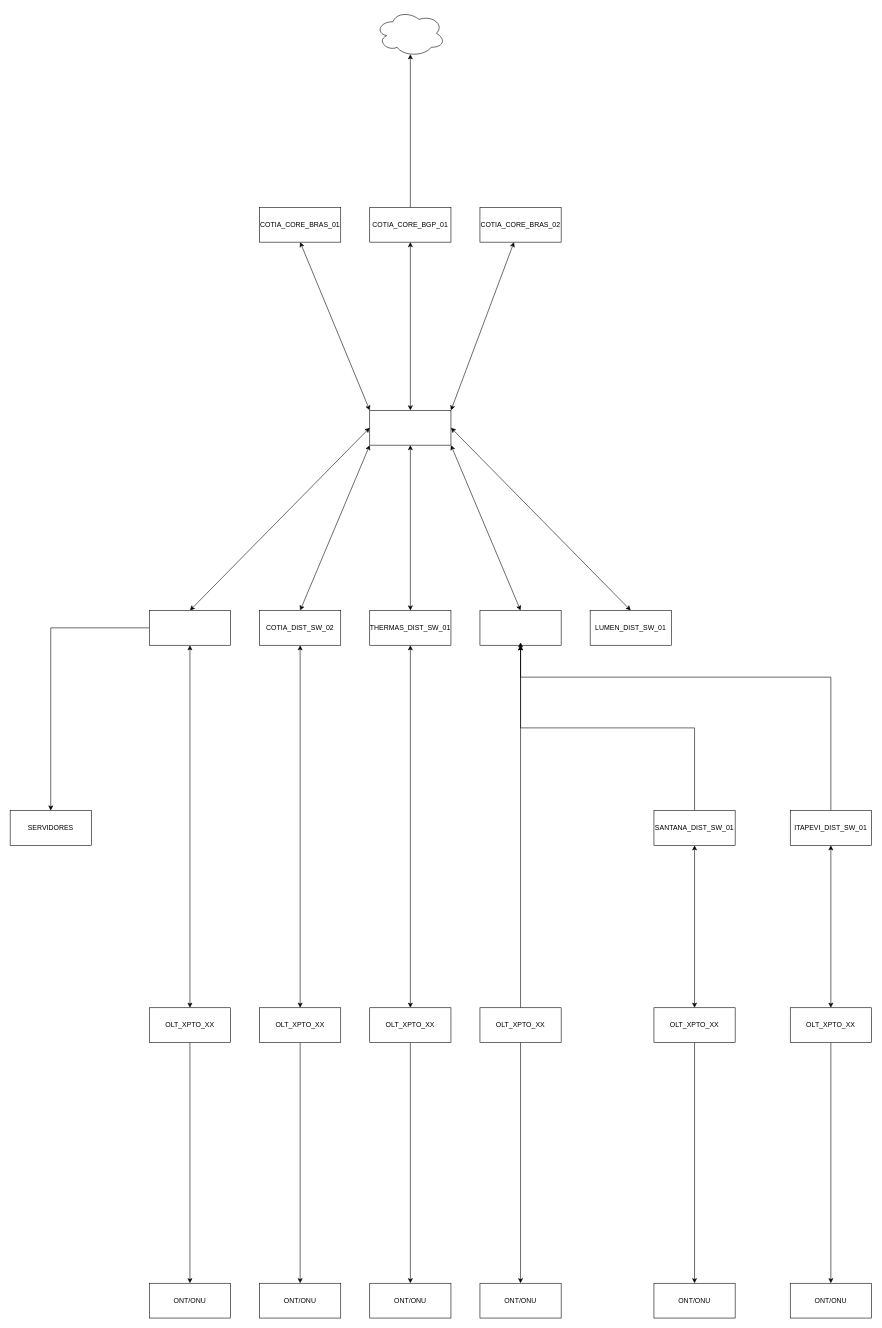
Some shapes in this 882 by 1328 pixel diagram are drawn without their labels. The shapes that lost their labels are listed below. From the top down, each one's box as (x1, y1, x2, y2) in pixels, then its label:
(375, 10, 445, 57): INTERNET
(369, 410, 451, 445): COTIA_CORE_SW_01
(149, 610, 231, 645): COTIA_DIST_SW_01
(479, 610, 561, 645): JANDIRA_DIST_SW_01
